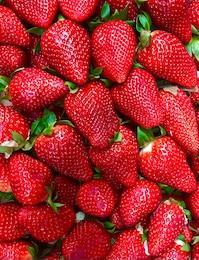Fresa: (62, 75, 125, 154), (31, 118, 95, 185), (38, 16, 96, 88), (136, 26, 199, 92), (136, 135, 199, 197), (111, 66, 171, 131), (151, 82, 199, 159), (88, 15, 140, 86), (87, 124, 140, 192), (6, 64, 71, 116), (16, 198, 79, 247), (5, 147, 55, 208), (144, 197, 188, 259), (116, 177, 164, 228), (143, 1, 196, 47), (73, 177, 118, 221)
